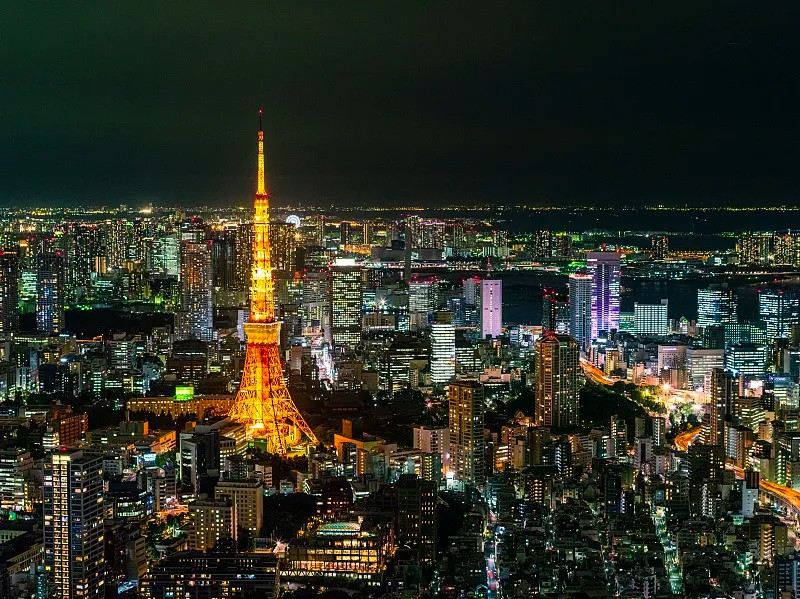Tokyo: (226, 107, 319, 456)
